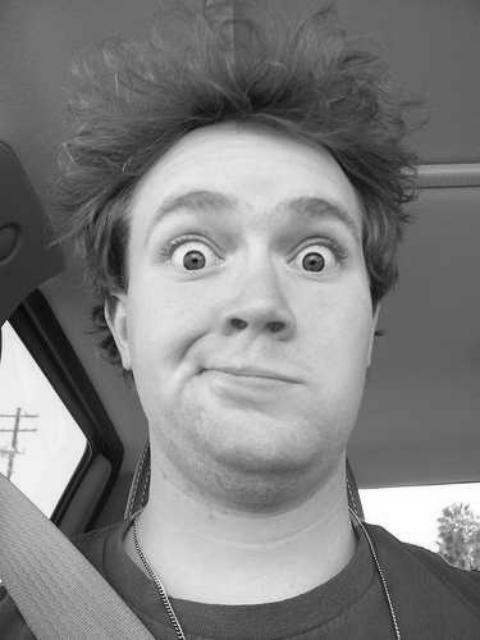SafeDriving: (274, 214, 358, 288), (157, 213, 233, 285)
Seatbelt: (0, 462, 162, 640)
